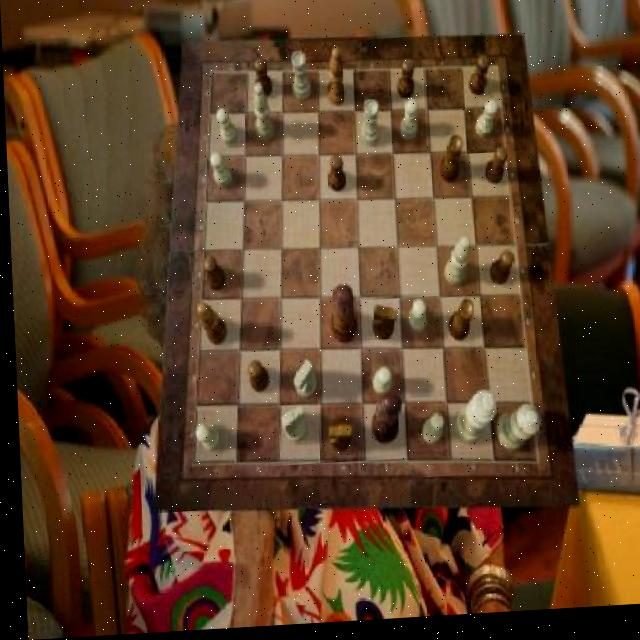bishop: (194, 304, 225, 349), (325, 52, 344, 111)
black-bishop: (365, 396, 400, 450)
black-king: (368, 308, 396, 345), (324, 426, 349, 458)
black-knight: (465, 62, 489, 103), (485, 255, 512, 290), (482, 152, 507, 189), (201, 259, 223, 294), (395, 64, 414, 104), (245, 363, 267, 397), (253, 62, 271, 102), (326, 160, 344, 197)
black-pawn: (325, 287, 354, 347)
black-queen: (435, 141, 461, 189), (444, 303, 473, 346)
black-rook: (441, 243, 469, 292), (251, 84, 273, 144)
white-bishop: (449, 395, 493, 451)
white-king: (276, 408, 302, 447), (289, 363, 313, 402)
white-knight: (472, 105, 496, 143), (214, 111, 237, 150), (397, 104, 418, 145), (208, 154, 230, 191), (189, 424, 216, 453), (415, 417, 439, 449), (405, 304, 423, 339), (368, 372, 388, 400)
white-pawn: (489, 410, 537, 457)
white-queen: (359, 104, 379, 153), (291, 55, 310, 105)
